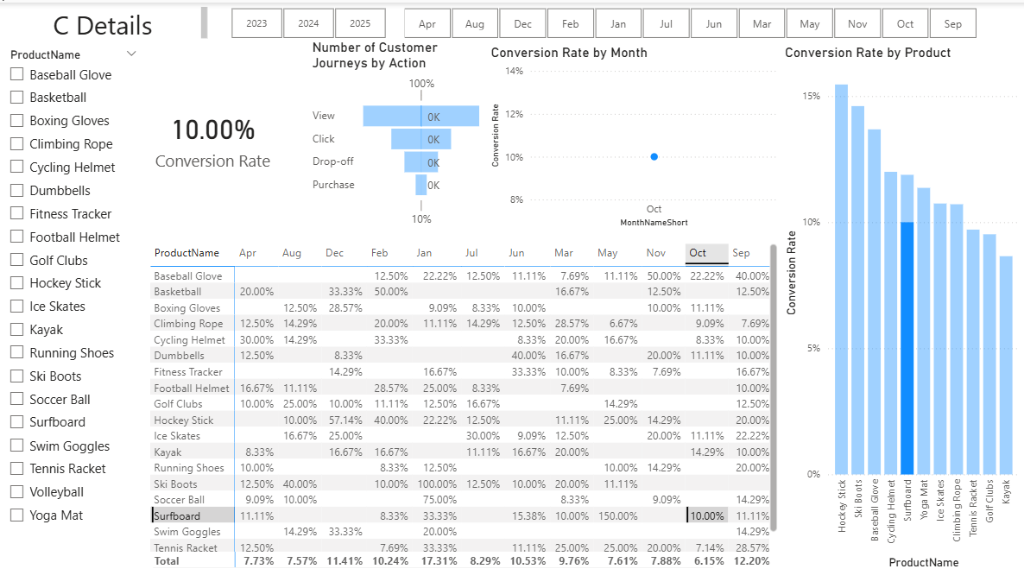

What the dashboard file says about the page in this screenshot:
{"tool":"powerbi","page":{"name":"Conversion Details","canvas":[1280,720],"ordinal":1},"visuals":[{"type":"slicer","fields":{"Values":["Calendar.MonthNameShort"]},"box":[480,0,765.4,51],"z":0},{"type":"textbox","box":[0,0,264.6,51],"z":1000},{"type":"slicer","fields":{"Values":["products.ProductName"]},"box":[0,51,183.3,669],"z":2000},{"type":"card","fields":{"Values":["_Calculations.Conversion Rate"]},"box":[183,51.8,165.2,233.2],"z":3000},{"type":"slicer","fields":{"Values":["Calendar.Year"]},"box":[264.6,0,241.9,51],"z":4000},{"type":"lineChart","title":"Conversion Rate by Month","fields":{"Category":["Calendar.MonthNameShort"],"Y":["_Calculations.Conversion Rate"]},"box":[608.8,51.8,367.6,233.2],"z":5000},{"type":"columnChart","title":"Conversion Rate by Product","fields":{"Y":["_Calculations.Conversion Rate"],"Category":["products.ProductName"]},"box":[976.4,51.8,302.8,668.7],"z":6000},{"type":"pivotTable","fields":{"Rows":["products.ProductName"],"Values":["_Calculations.Conversion Rate"],"Columns":["Calendar.MonthNameShort"]},"box":[183,296.3,793.4,424.2],"z":7000},{"type":"funnel","fields":{"Category":["customer_journey.Action"],"Y":["_Calculations.Number of Customer Journeys"]},"box":[385.4,45.3,223.5,239.6],"z":8000}]}

Visuals, with their boxes on the page's 1280x720 design canvas (x1, y1, x2, y2). These are canvas units, not pixel positions in the 1024x568 screenshot, which may show the page scaled, cropped or inside an application window:
slicer - Calendar.MonthNameShort: box=[480, 0, 1245, 51]
textbox: box=[0, 0, 265, 51]
slicer - products.ProductName: box=[0, 51, 183, 720]
card - _Calculations.Conversion Rate: box=[183, 52, 348, 285]
slicer - Calendar.Year: box=[265, 0, 506, 51]
"Conversion Rate by Month" lineChart: box=[609, 52, 976, 285]
"Conversion Rate by Product" columnChart: box=[976, 52, 1279, 720]
pivotTable - products.ProductName x _Calculations.Conversion Rate: box=[183, 296, 976, 720]
funnel - customer_journey.Action x _Calculations.Number of Customer Journeys: box=[385, 45, 609, 285]
